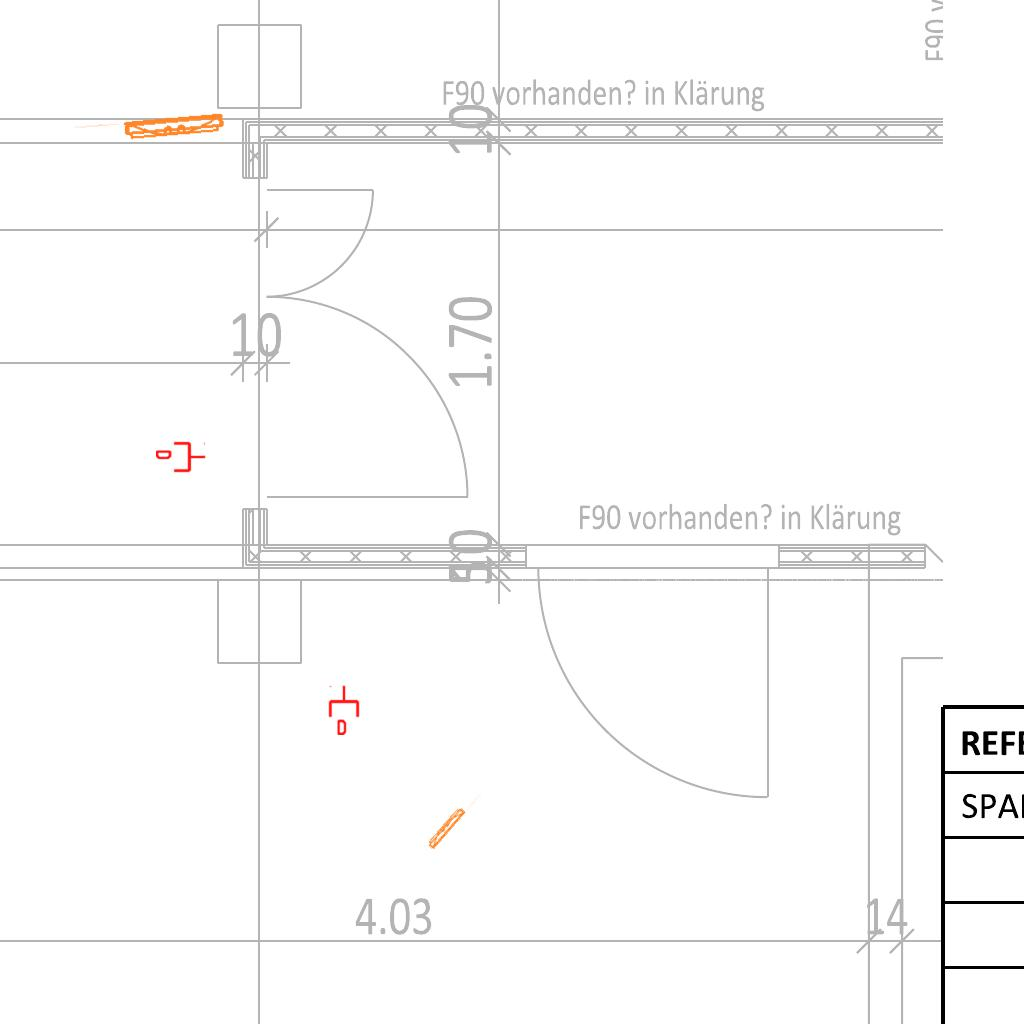Datenanschluss_einfach: (327, 685, 361, 735), (156, 440, 206, 474)
Sicherheitsleuchte_Wandeinbau: (69, 110, 230, 149), (423, 784, 485, 853)
